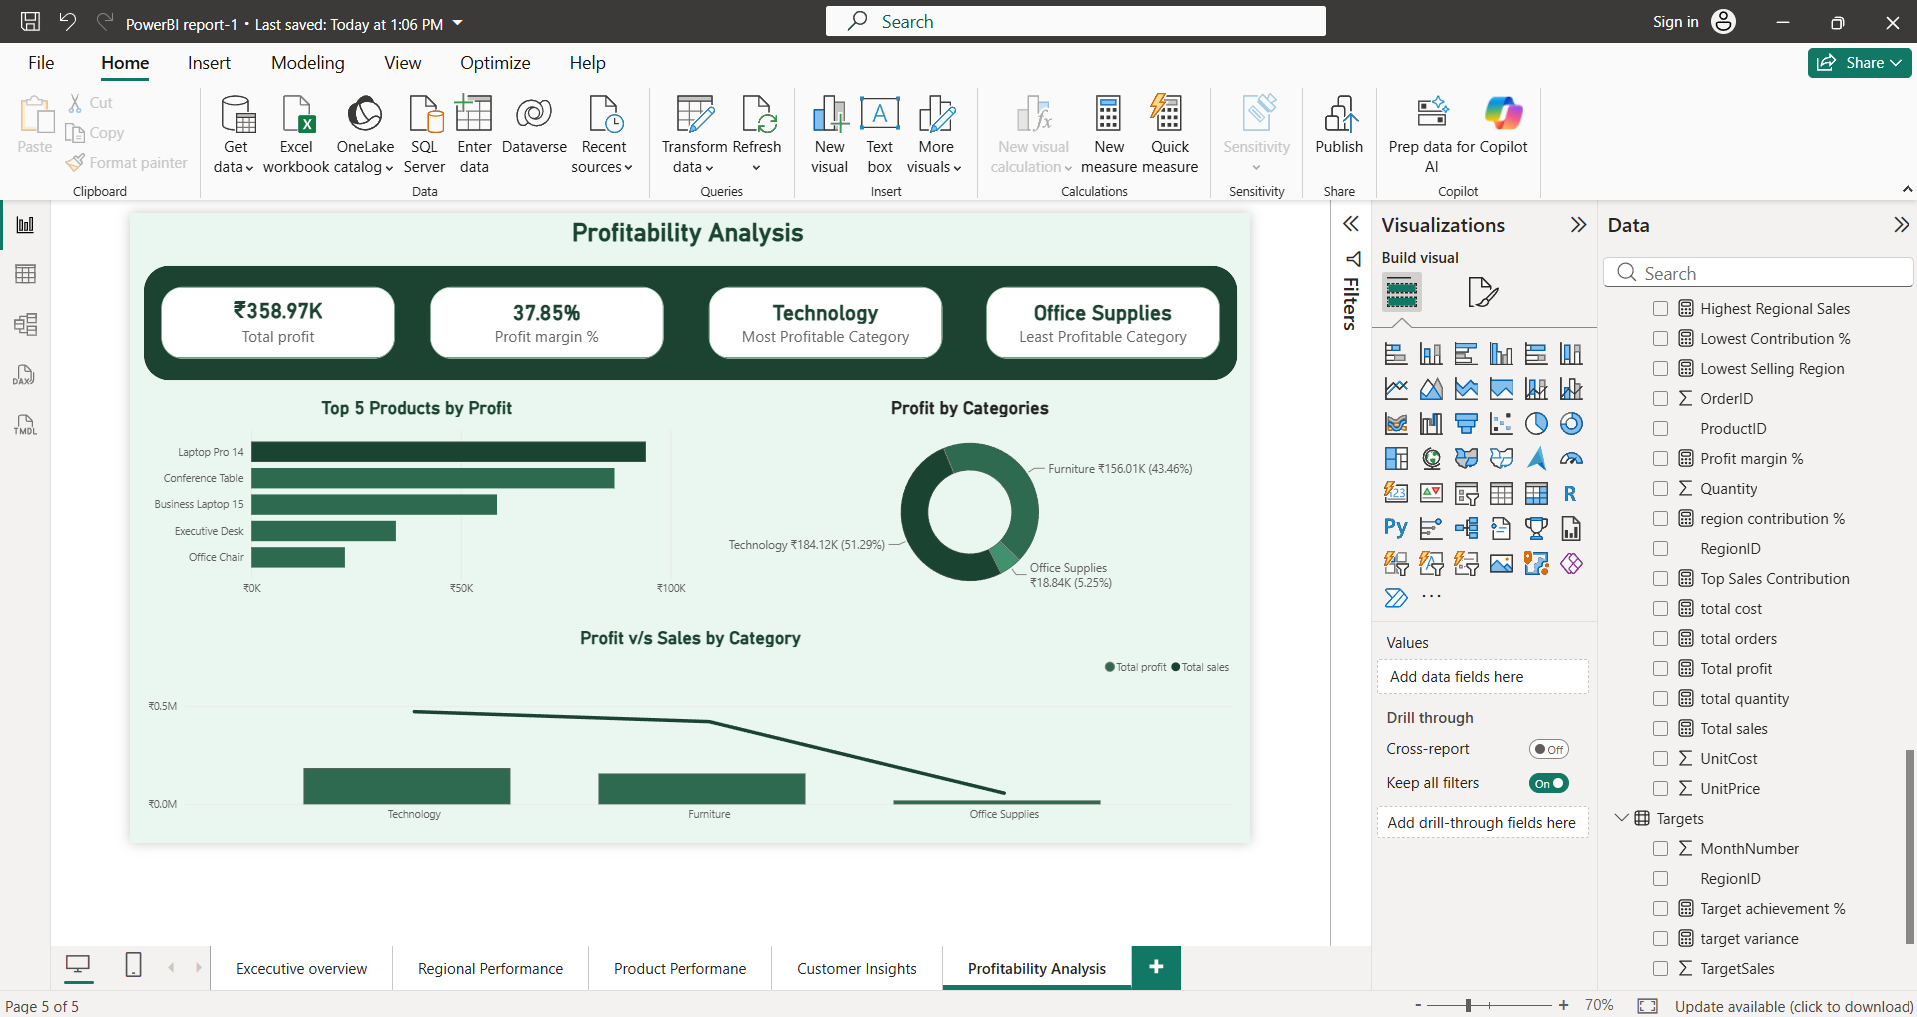

The page's visual inventory and layout, read from the dashboard file:
{"tool":"powerbi","page":{"name":"Profitability Analysis","canvas":[1280,720],"ordinal":5},"visuals":[{"type":"shape","box":[15.7,60,1250,131.4],"z":0},{"type":"textbox","box":[500,0,280,48.6],"z":1000},{"type":"cardVisual","fields":{"Data":["Sales.Profit margin %"]},"box":[322.9,64.3,307.1,122.9],"z":2000},{"type":"cardVisual","fields":{"Data":["Sales.Total profit"]},"box":[15.7,64.3,307.1,122.9],"z":3000},{"type":"cardVisual","fields":{"Data":["Categories.Least Profitable Category"]},"box":[958.6,64.3,307.1,122.9],"z":4000},{"type":"cardVisual","fields":{"Data":["Categories.Most Profitable Category"]},"box":[641.4,64.3,307.1,122.9],"z":5000},{"type":"clusteredBarChart","title":"Top 5 Products by Profit","fields":{"Category":["Products.ProductName"],"Y":["Sales.Total profit"]},"box":[15.7,210,624.3,237.1],"z":6000},{"type":"donutChart","title":"Profit by Categories","fields":{"Y":["Sales.Total profit"],"Category":["Categories.Category"]},"box":[640,210,640,237.1],"z":7000},{"type":"lineClusteredColumnComboChart","title":"Profit v/s Sales by Category","fields":{"Category":["Categories.Category"],"Y2":["Sales.Total sales"],"Y":["Sales.Total profit"]},"box":[15.7,472.9,1250,232.9],"z":8000},{"type":"actionButton","box":[0,0,126,47.7],"z":12000}]}

Visuals, with their boxes on the page's 1280x720 design canvas (x1, y1, x2, y2). These are canvas units, not pixel positions in the 1917x1017 screenshot, which may show the page scaled, cropped or inside an application window:
shape: [left=16, top=60, right=1266, bottom=191]
textbox: [left=500, top=0, right=780, bottom=49]
cardVisual - Sales.Profit margin %: [left=323, top=64, right=630, bottom=187]
cardVisual - Sales.Total profit: [left=16, top=64, right=323, bottom=187]
cardVisual - Categories.Least Profitable Category: [left=959, top=64, right=1266, bottom=187]
cardVisual - Categories.Most Profitable Category: [left=641, top=64, right=948, bottom=187]
"Top 5 Products by Profit" clusteredBarChart: [left=16, top=210, right=640, bottom=447]
"Profit by Categories" donutChart: [left=640, top=210, right=1280, bottom=447]
"Profit v/s Sales by Category" lineClusteredColumnComboChart: [left=16, top=473, right=1266, bottom=706]
actionButton: [left=0, top=0, right=126, bottom=48]
